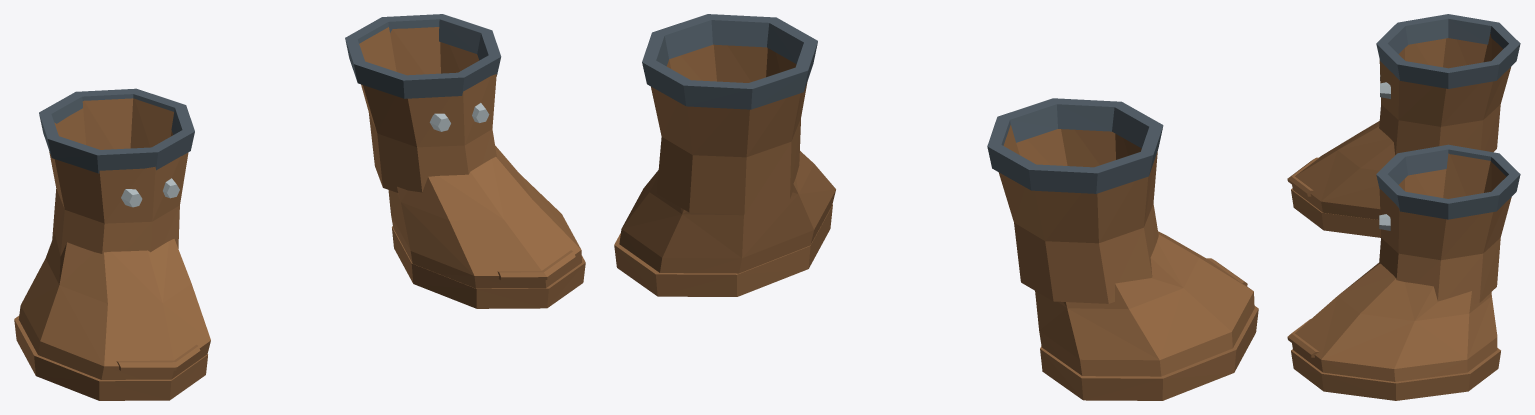
File: studded_feet-female.glb
3 views of the same model, side by side, from view 1: azimuth 30°, elevation 25°; view 2: azimuth 150°, elevation 25°; view 3: azimuth 270°, elevation 25° (orthographic). The views are drawn at different scales.
Parts seen in each view (by area): view 1: studded boot foot -1, studded boot foot 1, studded boot upper -1, studded boot upper 1, Turned boot cuff 1, Turned boot cuff -1, Boot sole -1, Boot sole 1, Boot toe welt -1, Boot toe welt 1; view 2: studded boot upper -1, studded boot foot -1, studded boot upper 1, studded boot foot 1, Turned boot cuff 1, Turned boot cuff -1, Boot sole -1, Boot sole 1; view 3: studded boot foot 1, studded boot upper 1, studded boot upper -1, Turned boot cuff -1, studded boot foot -1, Turned boot cuff 1, Boot sole 1, Boot sole -1, Boot toe welt 1, Boot toe welt -1.
Part boxes in pixels (x1=…): studded boot foot -1: x1=18, y1=234, x2=210, y2=379; studded boot foot 1: x1=388, y1=145, x2=581, y2=288; studded boot upper -1: x1=49, y1=98, x2=188, y2=255; studded boot upper 1: x1=359, y1=27, x2=496, y2=192; Turned boot cuff 1: x1=345, y1=14, x2=501, y2=98; Turned boot cuff -1: x1=39, y1=88, x2=194, y2=173; Boot sole -1: x1=14, y1=315, x2=207, y2=400; Boot sole 1: x1=392, y1=226, x2=585, y2=308; Boot toe welt -1: x1=116, y1=344, x2=200, y2=370; Boot toe welt 1: x1=497, y1=250, x2=575, y2=280; studded boot upper -1: x1=998, y1=125, x2=1158, y2=303; studded boot foot -1: x1=1035, y1=231, x2=1254, y2=376; studded boot upper 1: x1=651, y1=44, x2=807, y2=214; studded boot foot 1: x1=619, y1=151, x2=835, y2=273; Turned boot cuff 1: x1=642, y1=14, x2=817, y2=109; Turned boot cuff -1: x1=987, y1=98, x2=1163, y2=193; Boot sole -1: x1=1040, y1=306, x2=1258, y2=400; Boot sole 1: x1=614, y1=204, x2=832, y2=296; studded boot foot 1: x1=1292, y1=262, x2=1497, y2=381; studded boot upper 1: x1=1379, y1=153, x2=1511, y2=304; studded boot upper -1: x1=1379, y1=34, x2=1510, y2=154; Turned boot cuff -1: x1=1376, y1=14, x2=1520, y2=88; studded boot foot -1: x1=1292, y1=121, x2=1395, y2=219; Turned boot cuff 1: x1=1376, y1=144, x2=1520, y2=219; Boot sole 1: x1=1291, y1=348, x2=1500, y2=400; Boot sole -1: x1=1291, y1=188, x2=1380, y2=237; Boot toe welt 1: x1=1287, y1=319, x2=1318, y2=357; Boot toe welt -1: x1=1287, y1=157, x2=1318, y2=196.
Size of the model in its own units: 2.7 by 0.9949 by 1.17.
